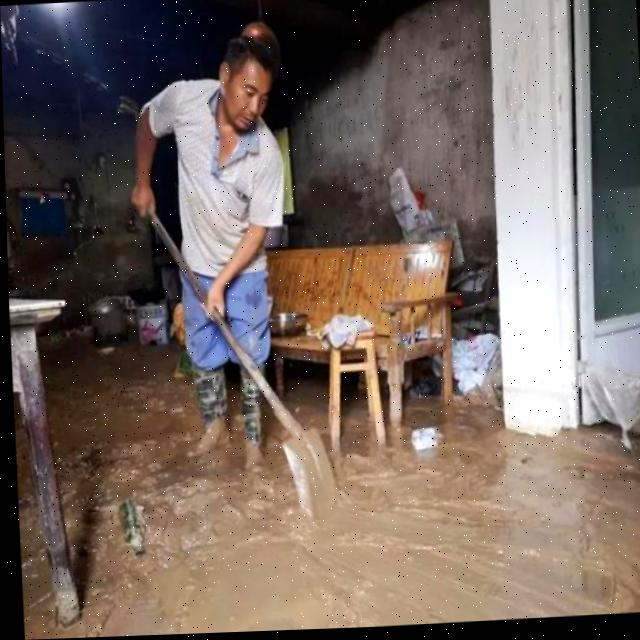civilian: (85, 26, 354, 485)
